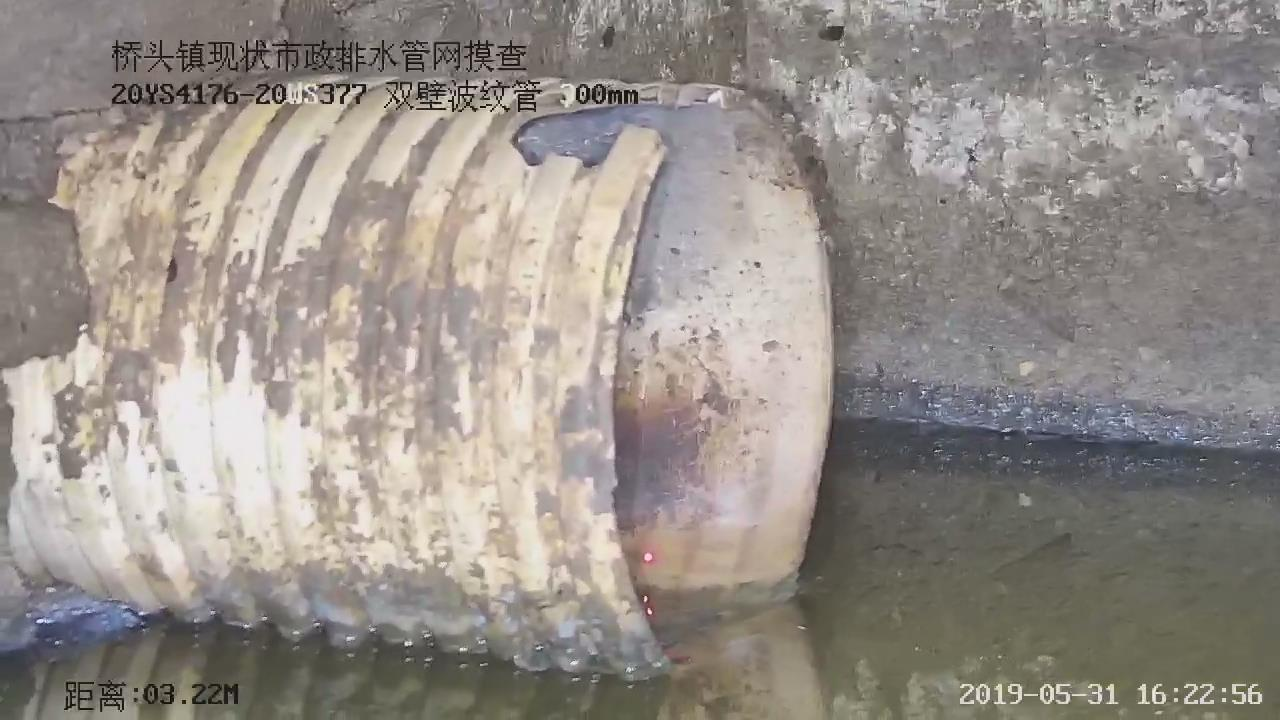ZGAJ: (0, 39, 831, 680)
